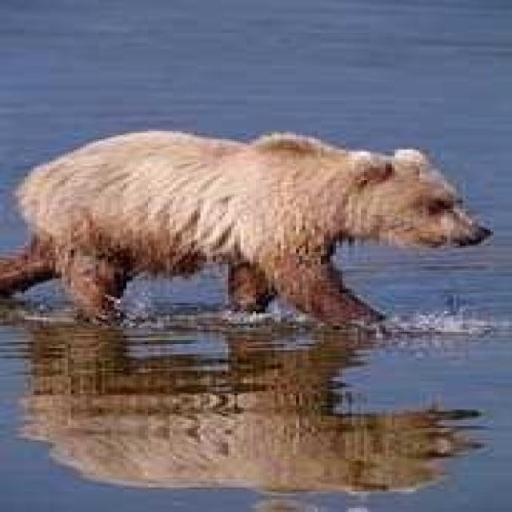Rhino: (0, 127, 494, 330)
